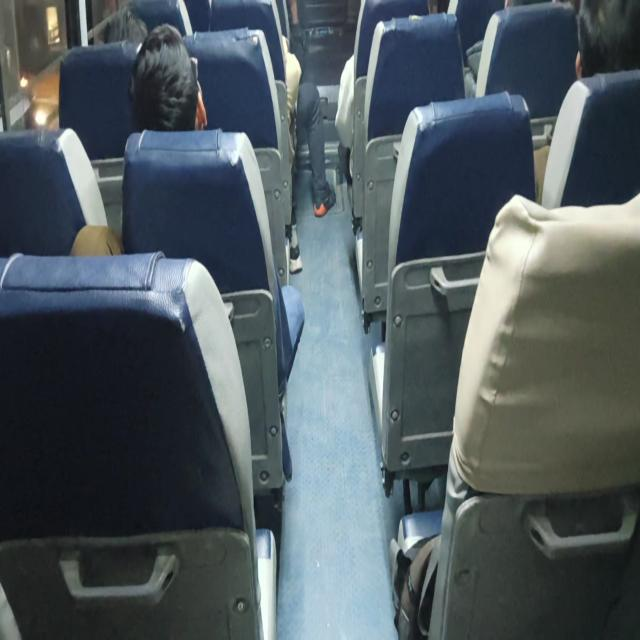person: (70, 22, 305, 480), (70, 22, 208, 256), (210, 0, 336, 218), (532, 0, 639, 204), (128, 22, 207, 132)
